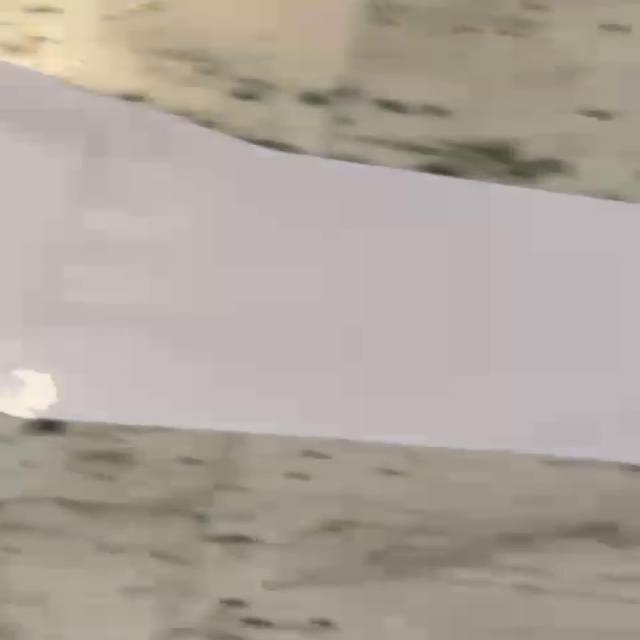road: (0, 60, 640, 468), (0, 60, 640, 468)
